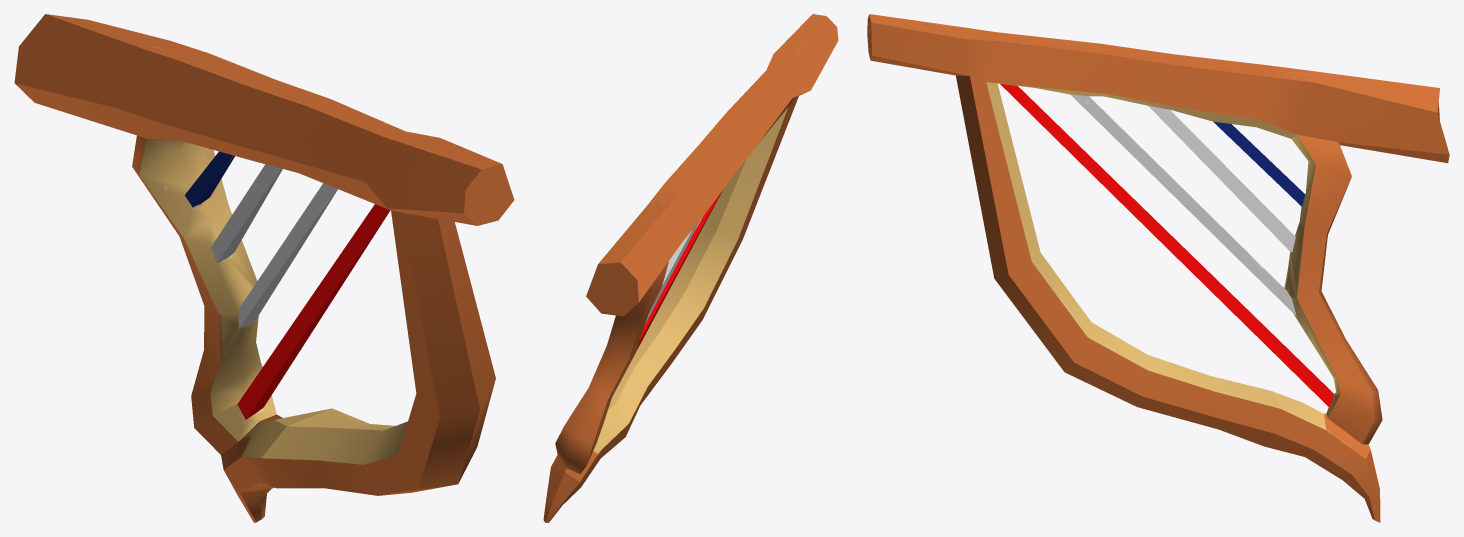
File: Arpa3_000020.obj
The picture shows the model from 3 angles, left to right: view 1: azimuth 30°, elevation 25°; view 2: azimuth 150°, elevation 25°; view 3: azimuth 270°, elevation 25°; orthographic projection. The views are drawn at different scales.
Parts seen in each view (by area): view 1: a3_Arpa_1:pCube6; view 2: a3_Arpa_1:pCube6; view 3: a3_Arpa_1:pCube6.
Part boxes in pixels (bbox=[...]): a3_Arpa_1:pCube6: bbox=[14, 14, 514, 522]; a3_Arpa_1:pCube6: bbox=[543, 14, 838, 522]; a3_Arpa_1:pCube6: bbox=[867, 14, 1449, 522].
Size of the model in its own units: 2.54 by 7.12 by 8.11.
